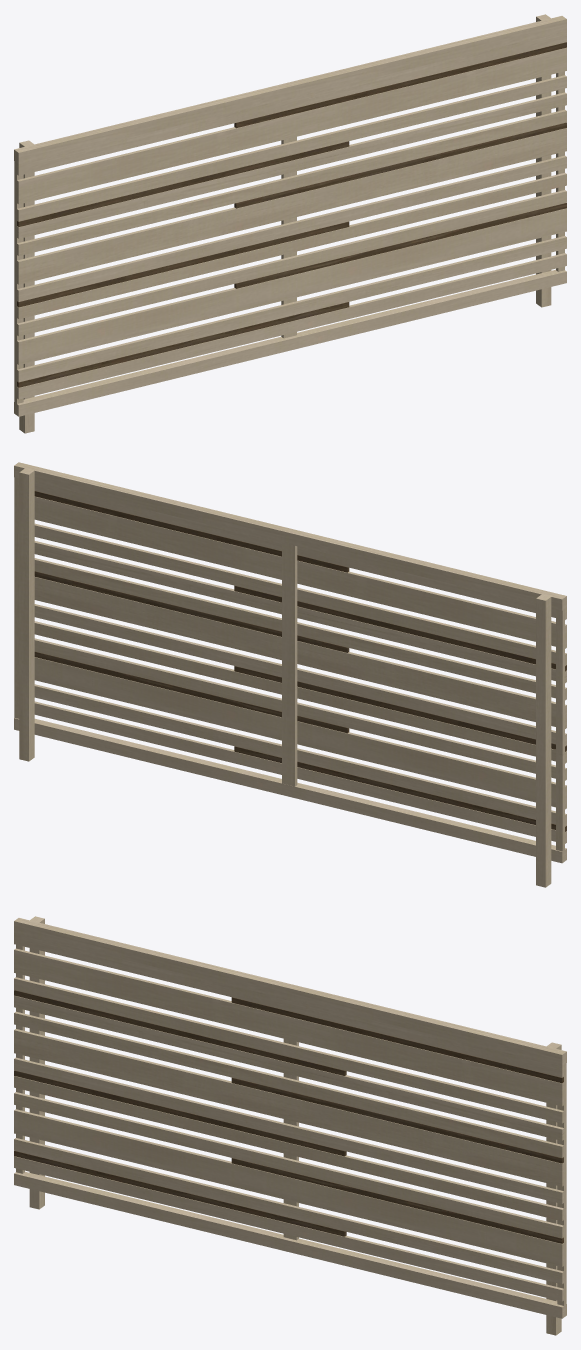
Rendered from everartfencekorabo_920-1998_springoak-brownebony.fbx.
3 renders of one model, top to bottom at view 1: azimuth 30°, elevation 25°; view 2: azimuth 150°, elevation 25°; view 3: azimuth 330°, elevation 25°, orthographic.
Parts seen in each view (by area): view 1: everartfencekorabo_920-1998_springoak-brownebony; view 2: everartfencekorabo_920-1998_springoak-brownebony; view 3: everartfencekorabo_920-1998_springoak-brownebony.
Part boxes in pixels (x1,y1,x2,y2): everartfencekorabo_920-1998_springoak-brownebony: [14, 14, 566, 433]; everartfencekorabo_920-1998_springoak-brownebony: [14, 462, 566, 887]; everartfencekorabo_920-1998_springoak-brownebony: [14, 916, 566, 1335].
Bounding box in the file's own units: 200 × 100 × 6.5.
Materials: 2 (2 with a texture image).
